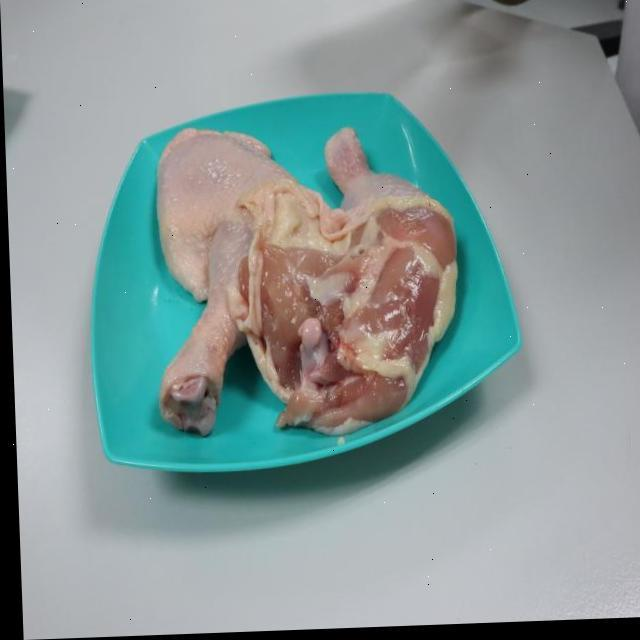quater: (303, 120, 465, 428), (150, 122, 296, 426)
